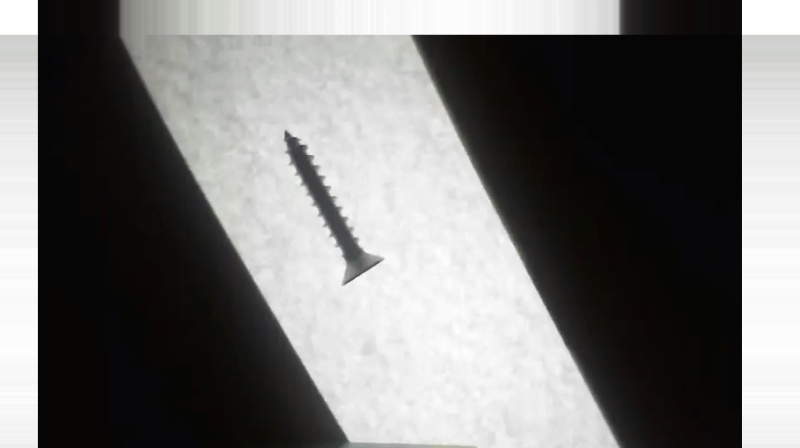S001: (276, 128, 388, 288)
